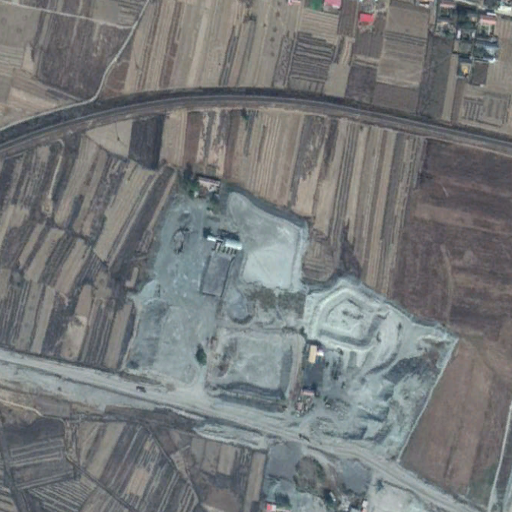tp: (122, 191, 392, 405)
